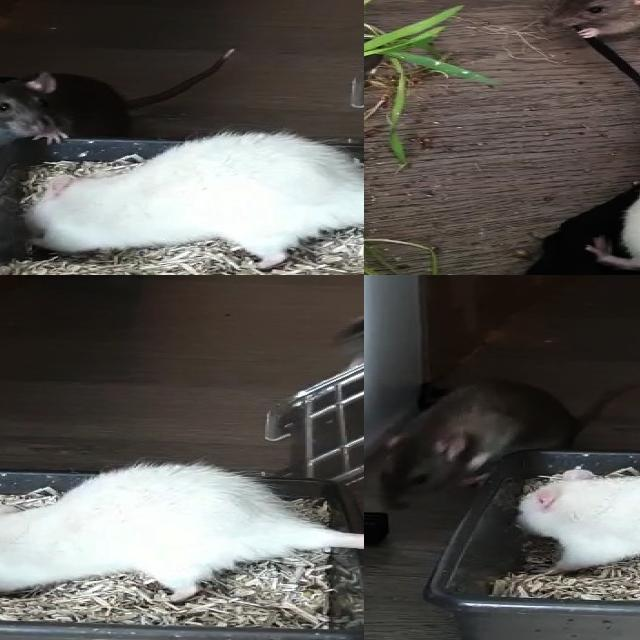rat: (18, 132, 364, 264), (0, 464, 304, 608), (377, 379, 586, 513), (513, 447, 640, 577), (0, 69, 139, 184), (539, 0, 640, 52)
